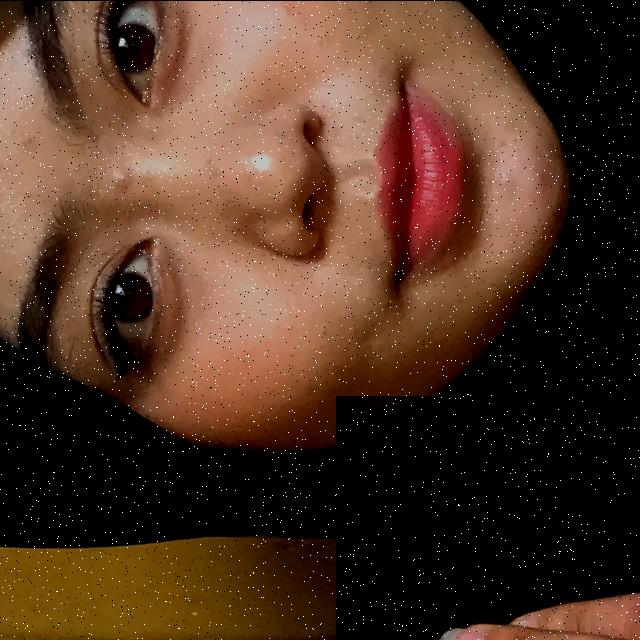kapan: (336, 395, 640, 640)
